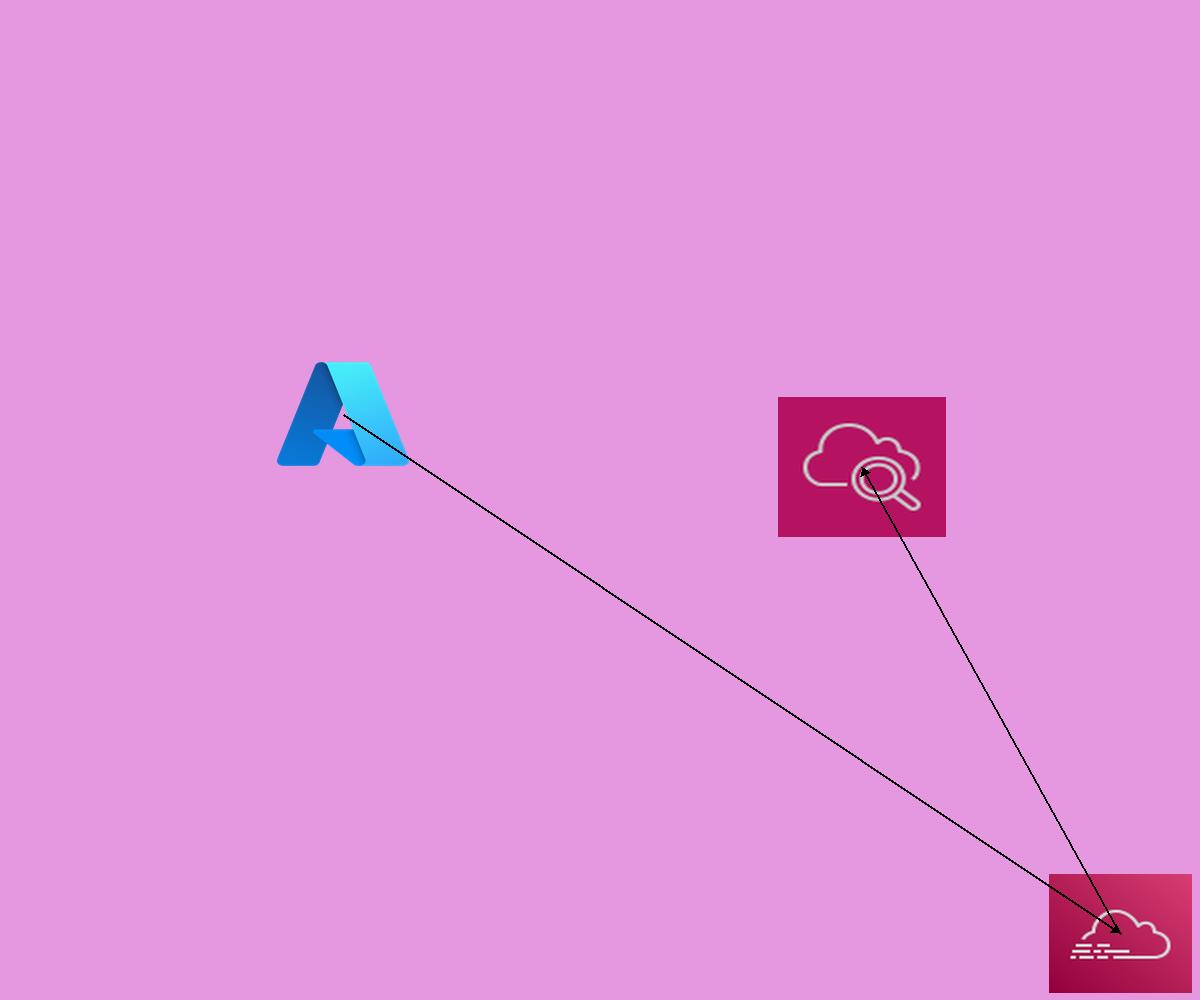AWS-CloudTrail: (1049, 874, 1192, 993)
AWS-CloudWatch: (778, 397, 946, 537)
Azure_services: (271, 354, 415, 474)
